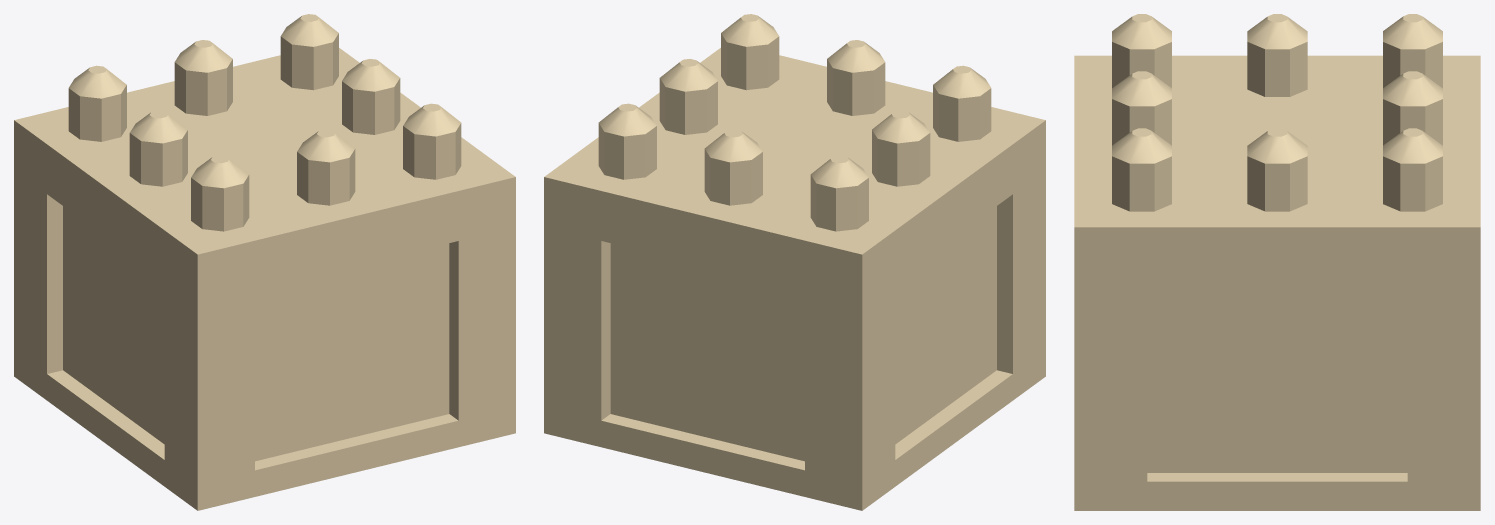
File: wall_pilaster.glb
The picture shows the model from 3 angles, left to right: view 1: azimuth 30°, elevation 25°; view 2: azimuth 150°, elevation 25°; view 3: azimuth 270°, elevation 25°; orthographic projection. The views are drawn at different scales.
Parts seen in each view (by area): view 1: wall; view 2: wall; view 3: wall.
Boxes of the visible parts, box(x1,y1,x2,y2) form: wall: box(14, 14, 515, 510); wall: box(544, 14, 1045, 510); wall: box(1074, 14, 1480, 510).
Bounding box in the file's own units: 1 × 0.95 × 1.
